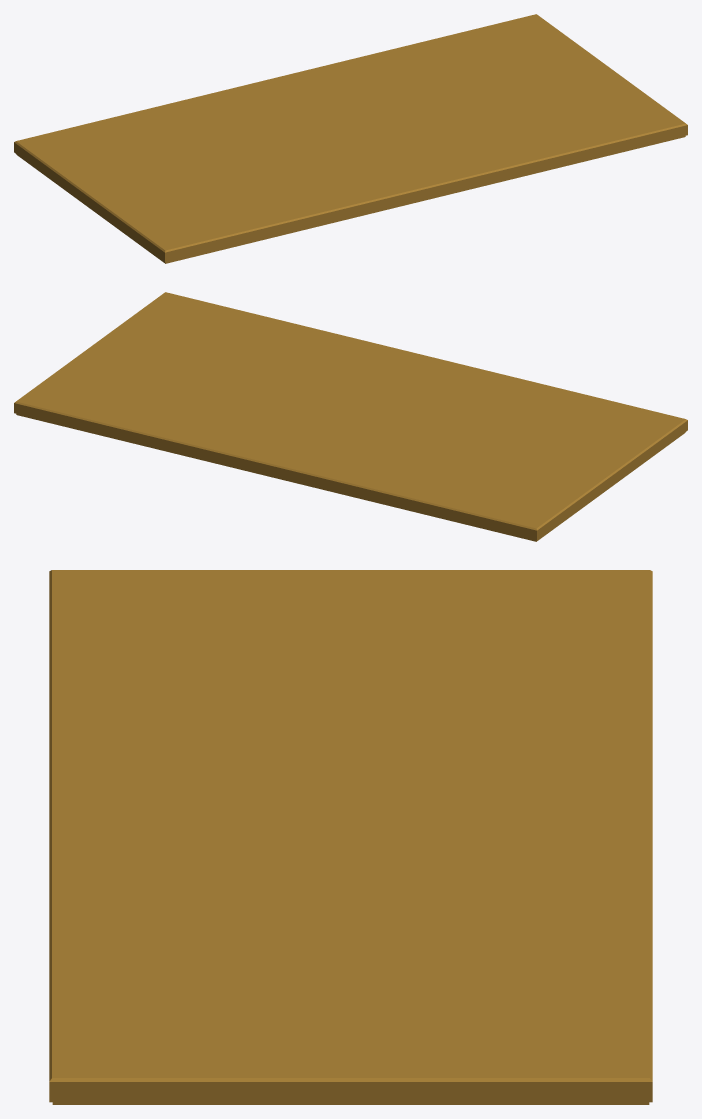
File: road.obj
3 views of the same model, one above another, from view 1: azimuth 30°, elevation 25°; view 2: azimuth 150°, elevation 25°; view 3: azimuth 270°, elevation 25° (orthographic). The views are drawn at different scales.
Visible parts, largest first — view 1: Part.1; view 2: Part.1; view 3: Part.1.
Boxes of the visible parts, box(x1,y1,x2,y2) form: Part.1: box(14, 14, 687, 263); Part.1: box(14, 292, 687, 541); Part.1: box(49, 570, 652, 1104).
Bounding box in the file's own units: 128 × 3.16 × 63.92.
